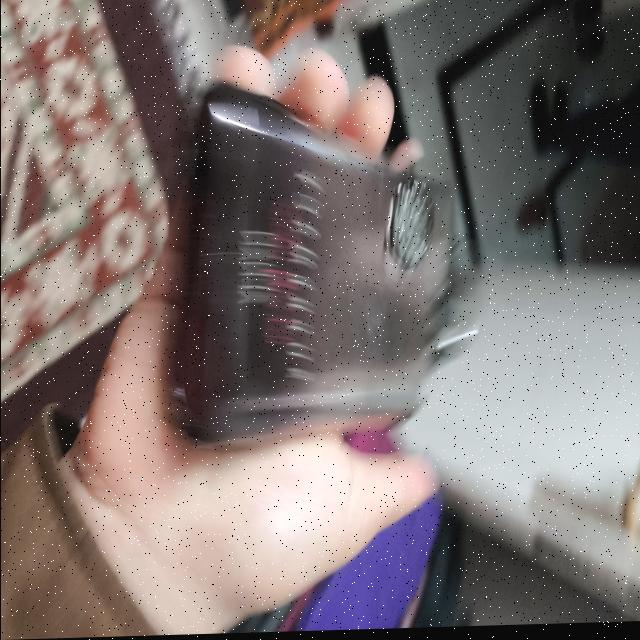Afnan: (170, 76, 482, 451)
